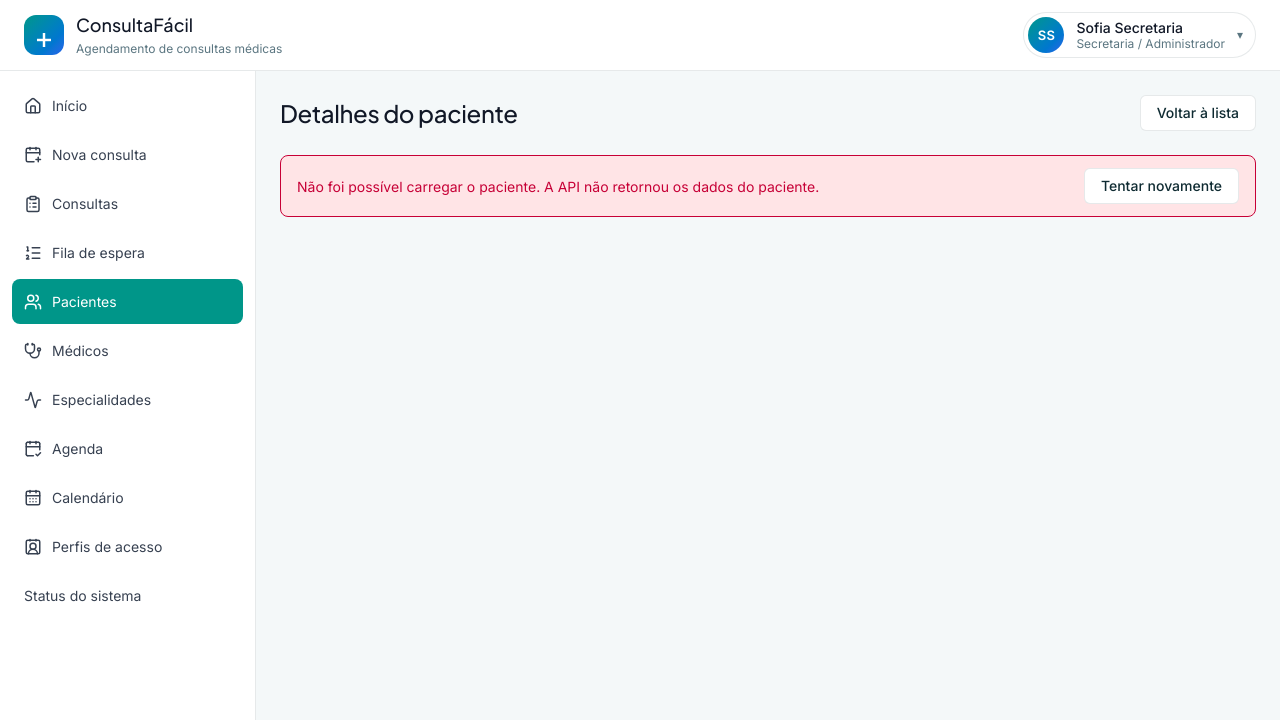
Scenario: cadastros padronizados › oferece nova tentativa quando o detalhe retorna sem os dados do paciente
Expected: the message shows "A API não retornou os dados do paciente.", [297, 178, 819, 194]
Click the button "Tentar novamente": (1161, 186) [1084, 168, 1239, 204]
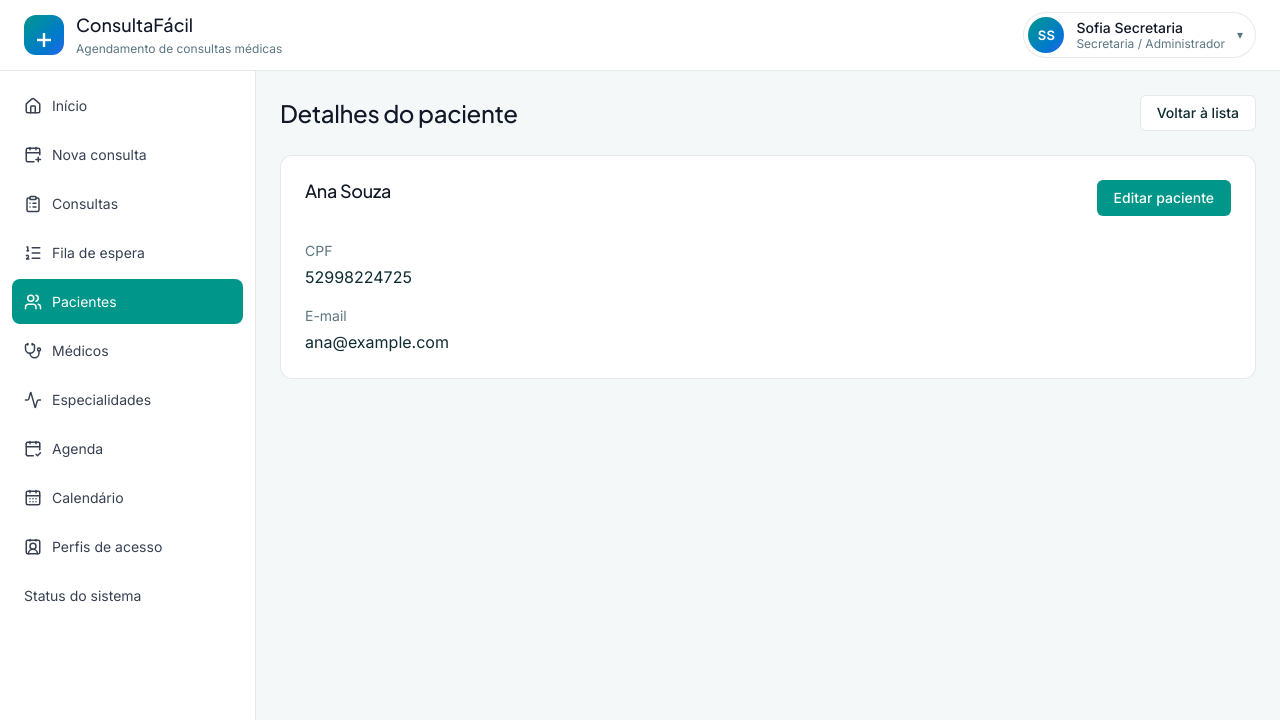
Now the heading "Ana Souza" is shown, box [305, 180, 391, 202]
